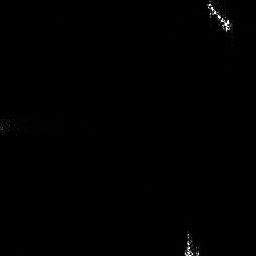ship: (205, 1, 234, 33)
